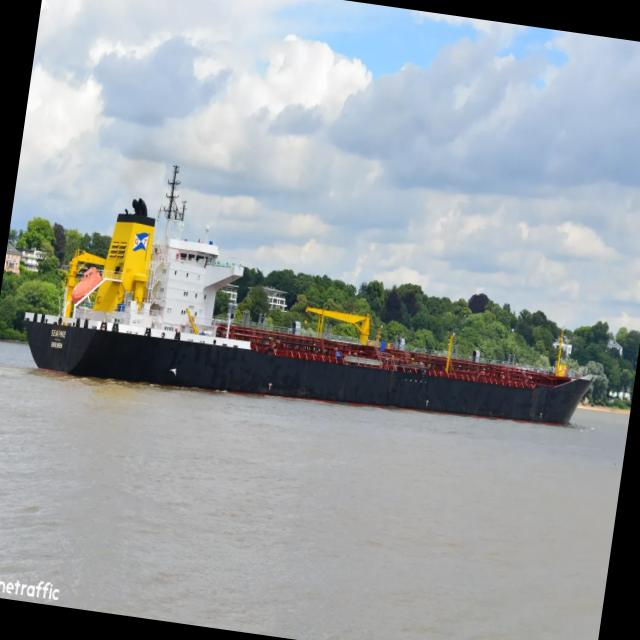Tanker: (25, 168, 593, 424)
